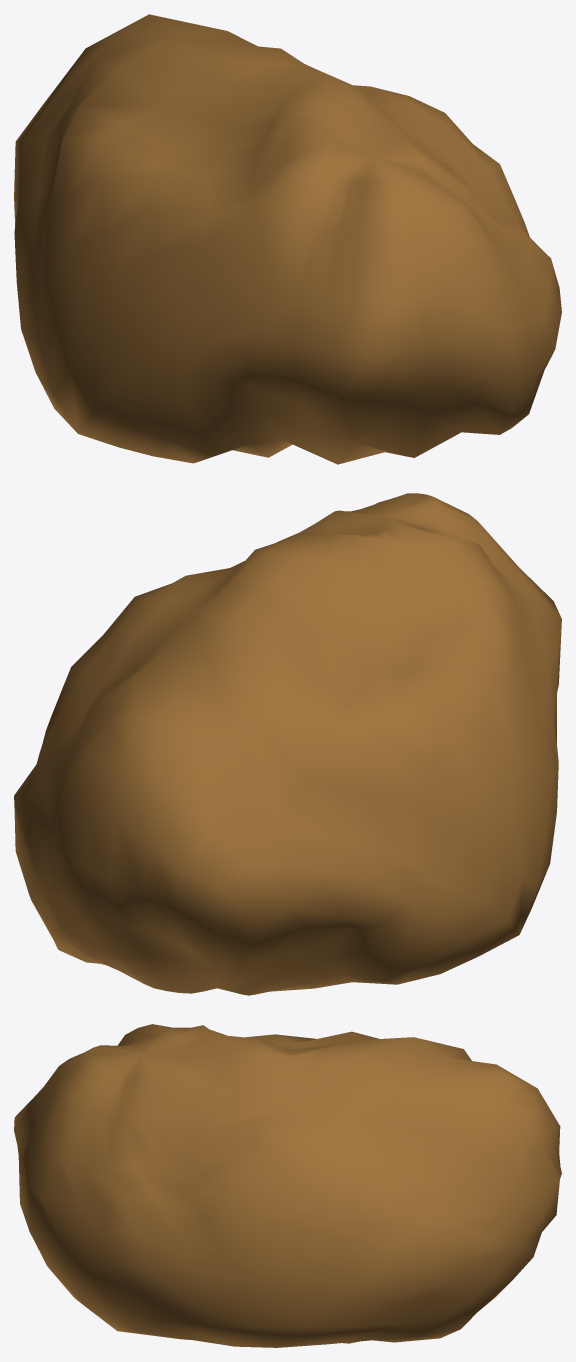
The model's file is mdl_Boulder.fbx.
3 views of the same model, one above another, from view 1: azimuth 30°, elevation 25°; view 2: azimuth 150°, elevation 25°; view 3: azimuth 270°, elevation 25° (orthographic). The views are drawn at different scales.
Visible parts, largest first — view 1: Sphere001; view 2: Sphere001; view 3: Sphere001.
Part boxes in pixels (bbox=[...]): Sphere001: bbox=[14, 14, 561, 464]; Sphere001: bbox=[14, 493, 561, 995]; Sphere001: bbox=[14, 1024, 561, 1347].
Bounding box in the file's own units: 78.24 × 58.55 × 108.
